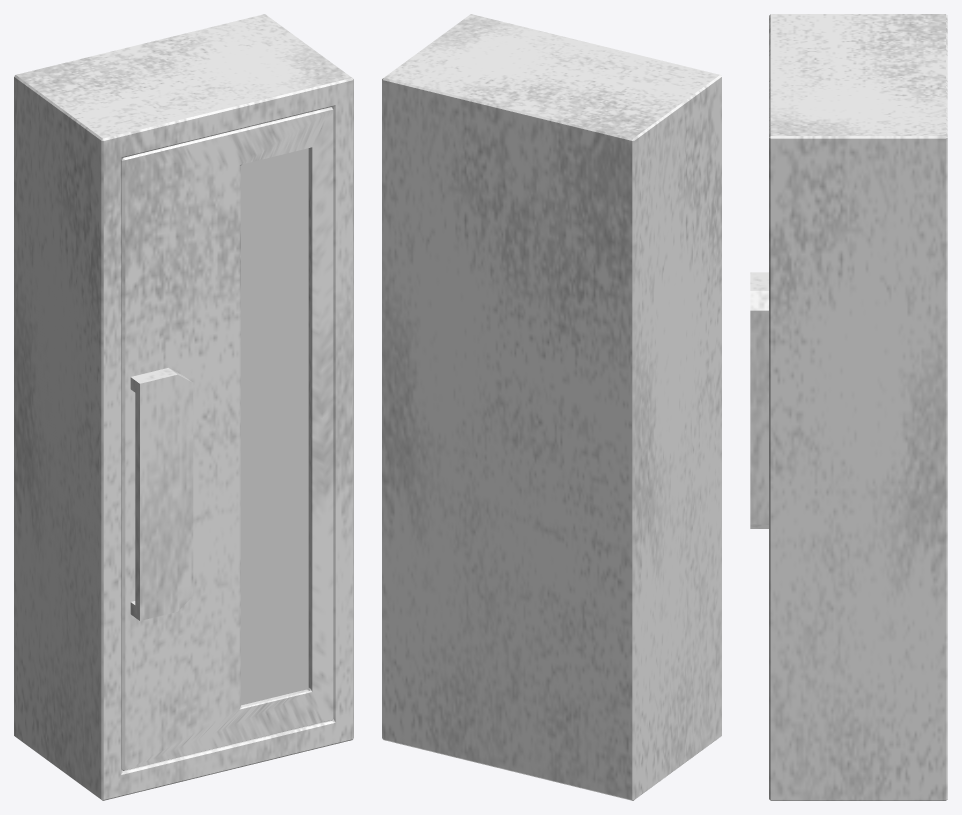
Rendered from Fire Extinguisher.fbx.
The picture shows the model from 3 angles, left to right: view 1: azimuth 30°, elevation 25°; view 2: azimuth 150°, elevation 25°; view 3: azimuth 270°, elevation 25°; orthographic projection.
Parts seen in each view (by area): view 1: Cube.003; view 2: Cube.003; view 3: Cube.003.
Boxes of the visible parts, bbox=[...] form: Cube.003: bbox=[14, 14, 353, 800]; Cube.003: bbox=[382, 14, 721, 800]; Cube.003: bbox=[750, 14, 947, 800].
Bounding box in the file's own units: 23.73 × 59.48 × 16.
